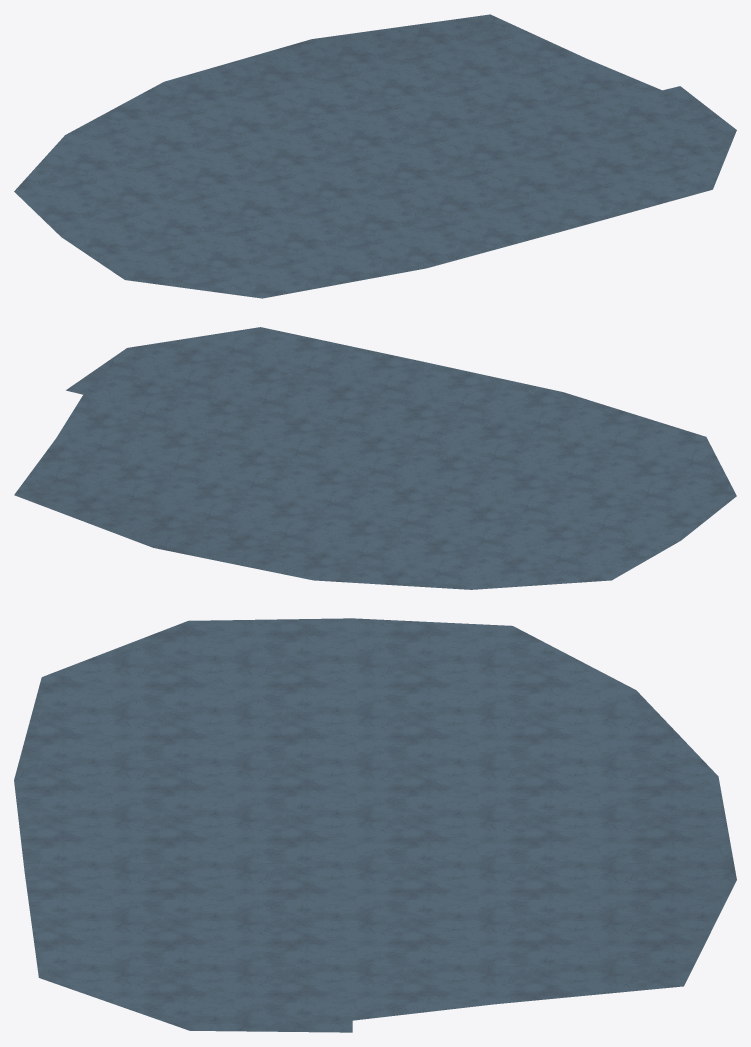
Rendered from puddle.glb.
3 views of the same model, one above another, from view 1: azimuth 30°, elevation 25°; view 2: azimuth 150°, elevation 25°; view 3: azimuth 270°, elevation 25° (orthographic). The views are drawn at different scales.
Visible parts, largest first — view 1: puddle; view 2: puddle; view 3: puddle.
Part boxes in pixels (left/top/right/bottom): puddle: left=14, top=14, right=736, bottom=298; puddle: left=14, top=327, right=736, bottom=589; puddle: left=14, top=618, right=736, bottom=1032.
Bounding box in the file's own units: 24.14 × 1.1e-15 × 17.8.
Materials: 1 (1 with a texture image).
